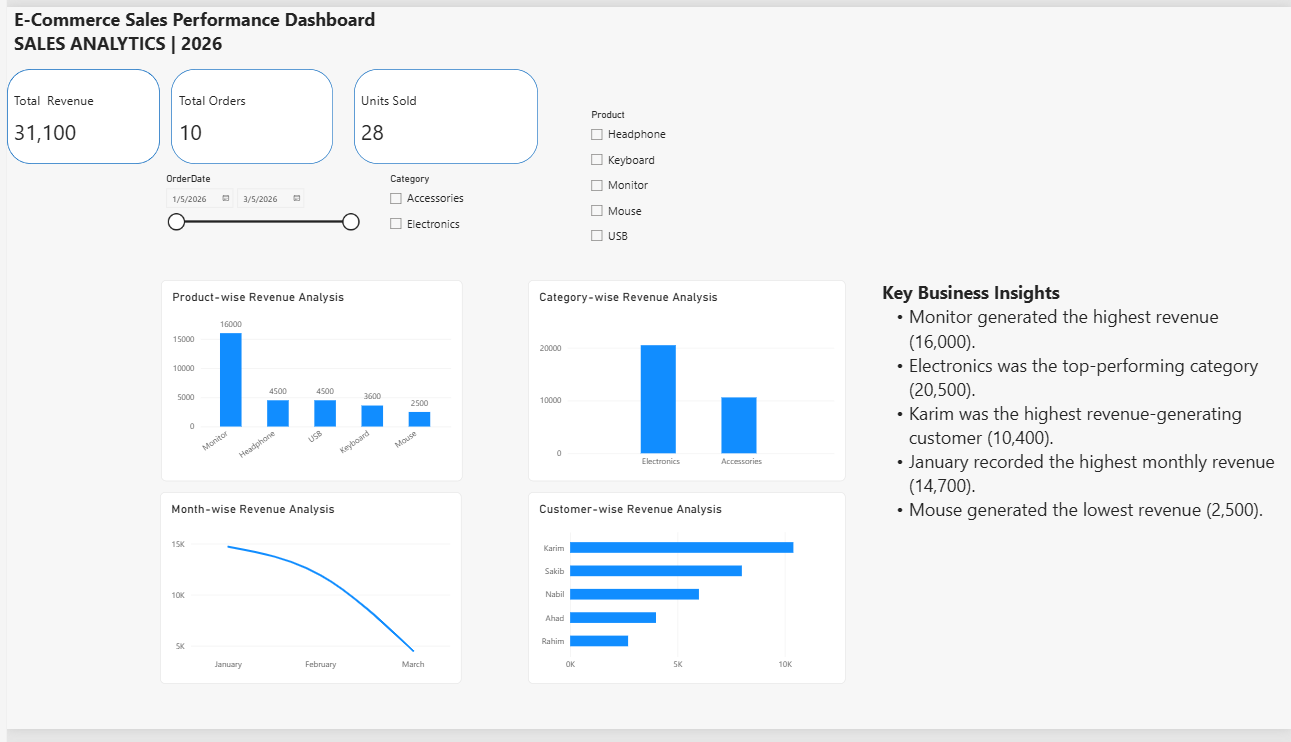

The page's visual inventory and layout, read from the dashboard file:
{"tool":"powerbi","page":{"name":"Page 1","canvas":[1920,1080],"ordinal":0},"visuals":[{"type":"shape","box":[0,92.7,228.8,142.1],"z":0},{"type":"textbox","box":[10,290,280,280],"z":1000},{"type":"textbox","box":[10.5,127.1,234.8,598.1],"z":2000},{"type":"textbox","box":[10.5,164.5,258.7,916.6],"z":3000},{"type":"shape","box":[245.2,92.7,242.2,142.1],"z":4000},{"type":"textbox","box":[257.2,127.1,976.4,343.9],"z":5000},{"type":"textbox","box":[257.2,164.5,976.4,406.7],"z":6000},{"type":"shape","box":[518.9,92.7,275.1,142.1],"z":7000},{"type":"textbox","box":[529.3,127.1,1390.7,444.1],"z":8000},{"type":"textbox","box":[300.5,569,239,511],"z":9000},{"type":"textbox","box":[529.3,164.5,704.3,916.6],"z":10000},{"type":"clusteredColumnChart","title":"Product-wise Revenue Analysis","fields":{"Category":["Sales_Orders.Product"],"Y":["Sum(Sales_Orders.Revenue)"]},"box":[230.3,408.2,450.8,301.1],"z":11000},{"type":"textbox","box":[1233.5,540.1,686.5,540.1],"z":12000},{"type":"textbox","box":[10.5,0,1909.5,77.8],"z":13000},{"type":"clusteredColumnChart","title":"Category-wise Revenue Analysis","fields":{"Category":["Sales_Orders.Category"],"Y":["Sum(Sales_Orders.Revenue)"]},"box":[779.1,408.2,475.2,301.1],"z":14000},{"type":"lineChart","title":"Month-wise Revenue Analysis","fields":{"Category":["Sales_Orders.OrderDate.Variation.Date Hierarchy.Month"],"Y":["Sum(Sales_Orders.Revenue)"]},"box":[228.8,725.2,450.8,287.2],"z":15000},{"type":"slicer","fields":{"Values":["Sales_Orders.Product"]},"box":[865.8,152.5,433.6,213.8],"z":15002},{"type":"slicer","fields":{"Values":["Sales_Orders.OrderDate"]},"box":[230.3,248.2,300.6,146.5],"z":15003},{"type":"slicer","fields":{"Values":["Sales_Orders.Category"]},"box":[565.2,248.2,300.6,101.7],"z":15004},{"type":"clusteredBarChart","title":"Customer-wise Revenue Analysis","fields":{"Category":["Sales_Orders.CustomerName"],"Y":["Sum(Sales_Orders.Revenue)"]},"box":[779.1,725.2,475.2,287.2],"z":15005},{"type":"textbox","box":[1308.4,408.2,596.6,604.1],"z":15006}]}

Visuals, with their boxes in screenshot pixels (x1, y1, x2, y2), scaled from the page's 1920x1080 canvas onto the 1291x742 screenshot:
shape: bbox=(0, 64, 154, 161)
textbox: bbox=(7, 199, 195, 392)
textbox: bbox=(7, 87, 165, 498)
textbox: bbox=(7, 113, 181, 741)
shape: bbox=(165, 64, 328, 161)
textbox: bbox=(173, 87, 829, 324)
textbox: bbox=(173, 113, 829, 392)
shape: bbox=(349, 64, 534, 161)
textbox: bbox=(356, 87, 1290, 392)
textbox: bbox=(202, 391, 363, 741)
textbox: bbox=(356, 113, 829, 741)
"Product-wise Revenue Analysis" clusteredColumnChart: bbox=(155, 280, 458, 487)
textbox: bbox=(829, 371, 1290, 741)
textbox: bbox=(7, 0, 1290, 53)
"Category-wise Revenue Analysis" clusteredColumnChart: bbox=(524, 280, 843, 487)
"Month-wise Revenue Analysis" lineChart: bbox=(154, 498, 457, 696)
slicer - Sales_Orders.Product: bbox=(582, 105, 874, 252)
slicer - Sales_Orders.OrderDate: bbox=(155, 171, 357, 271)
slicer - Sales_Orders.Category: bbox=(380, 171, 582, 240)
"Customer-wise Revenue Analysis" clusteredBarChart: bbox=(524, 498, 843, 696)
textbox: bbox=(880, 280, 1281, 695)
